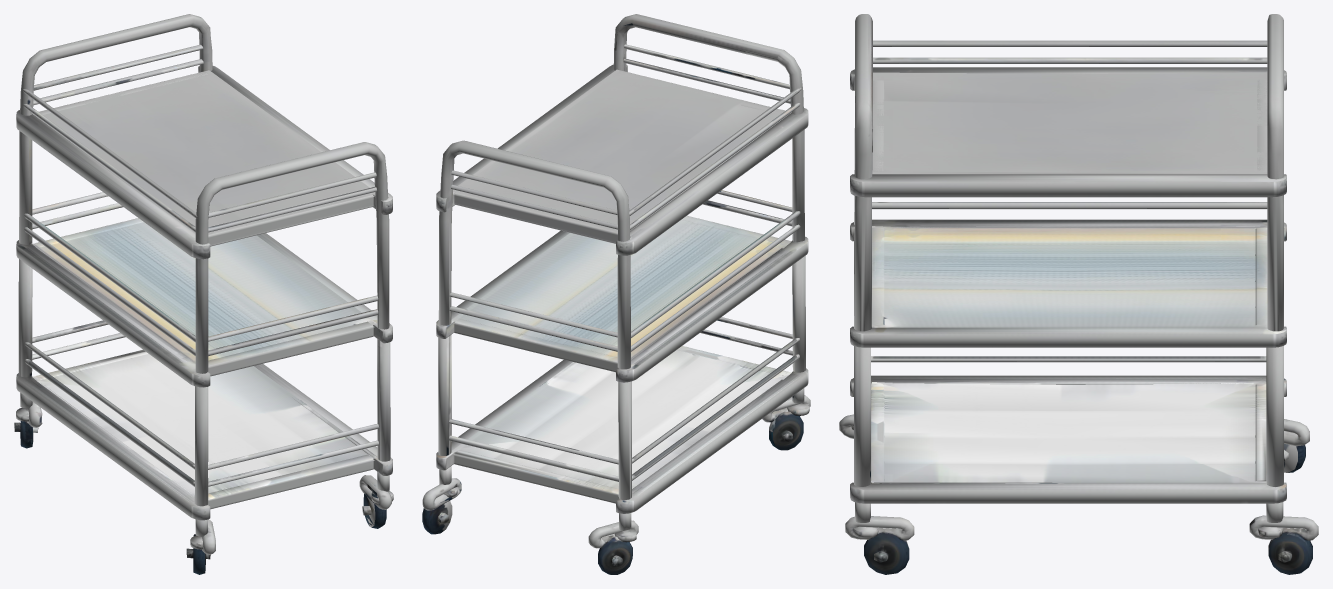
File: cart2.fbx
3 renders of one model, left to right at view 1: azimuth 30°, elevation 25°; view 2: azimuth 150°, elevation 25°; view 3: azimuth 270°, elevation 25°, orthographic. The views are drawn at different scales.
Visible parts, largest first — view 1: tripo_node_14f872cb; view 2: tripo_node_14f872cb; view 3: tripo_node_14f872cb.
Part boxes in pixels (box(x1,y1,x2,y2)): tripo_node_14f872cb: box(14, 14, 393, 574); tripo_node_14f872cb: box(422, 14, 810, 574); tripo_node_14f872cb: box(839, 14, 1318, 574).
Bounding box in the file's own units: 46.91 × 88.04 × 82.44.
Materials: 1 (1 with a texture image).
